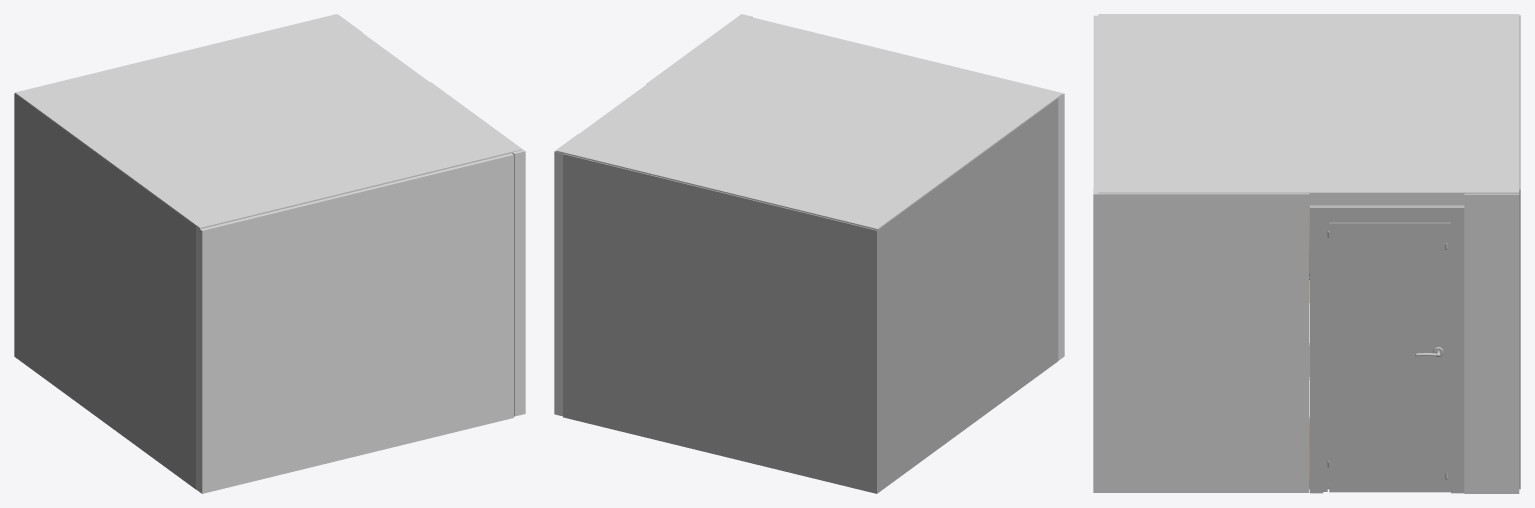
Rendered from RoomModelColored.fbx.
3 views of the same model, side by side, from view 1: azimuth 30°, elevation 25°; view 2: azimuth 150°, elevation 25°; view 3: azimuth 270°, elevation 25° (orthographic). The views are drawn at different scales.
Parts seen in each view (by area): view 1: Wall2, Ceiling, Office2_base, Wall1-1; view 2: Office2_base, Ceiling, Wall1-2.001, Wall2; view 3: Ceiling, Wall1-1, D1-Door, Wall1-2.001, D1-Frame, Wall2, Office2_base.
Boxes of the visible parts, x1,y1,x2,y2 form: Wall2: (196, 153, 513, 493); Ceiling: (15, 14, 521, 238); Office2_base: (14, 93, 195, 489); Wall1-1: (430, 82, 525, 416); Office2_base: (563, 98, 1058, 493); Ceiling: (556, 15, 1062, 230); Wall1-2.001: (554, 133, 578, 416); Wall2: (753, 17, 1064, 360); Ceiling: (1098, 14, 1519, 205); Wall1-1: (1093, 188, 1309, 492); D1-Door: (1327, 222, 1450, 492); Wall1-2.001: (1464, 193, 1519, 493); D1-Frame: (1310, 205, 1464, 493); Wall2: (1093, 15, 1098, 188); Office2_base: (1309, 15, 1520, 489).
Size of the model in its own units: 530 by 402 by 518.
